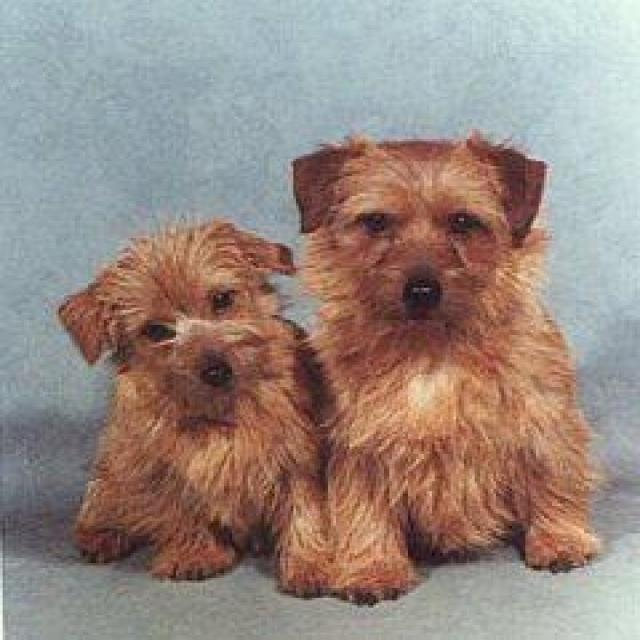dogs: (38, 94, 625, 626)
